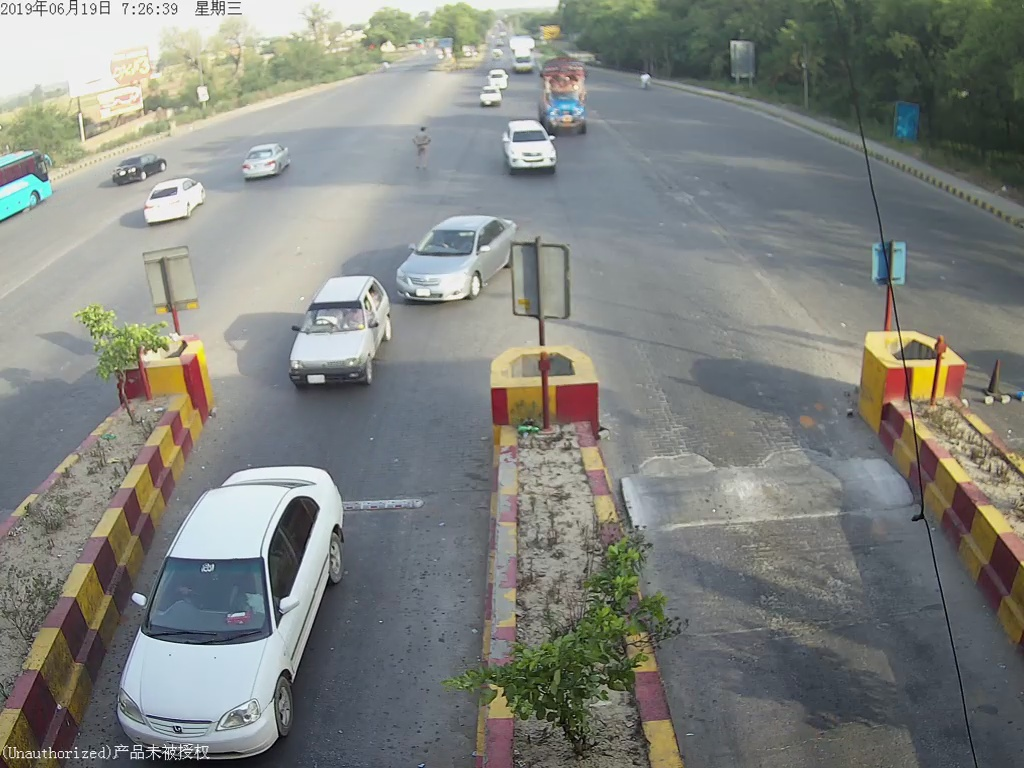Cat-1: (127, 472, 326, 752), (281, 276, 391, 391), (393, 209, 510, 309), (493, 120, 555, 180)
